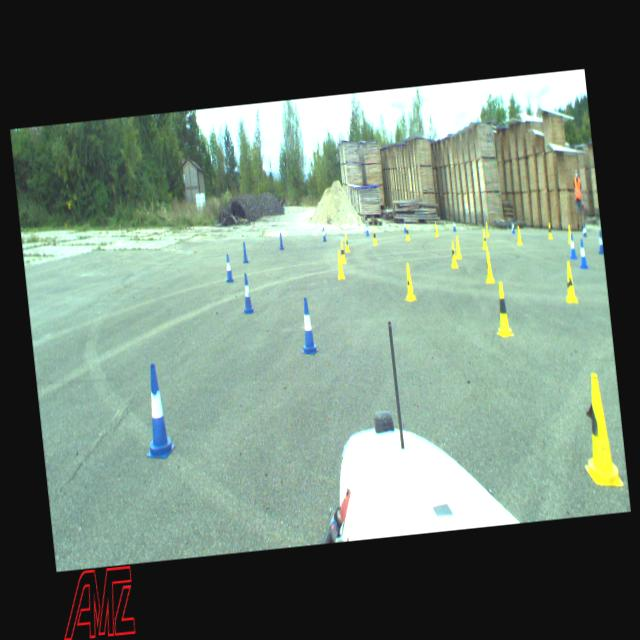blue_cone: (138, 362, 176, 459), (296, 297, 318, 355), (239, 272, 255, 314), (577, 238, 588, 269), (224, 254, 233, 283), (568, 232, 576, 258), (596, 230, 604, 253), (241, 242, 248, 263), (278, 232, 284, 249), (510, 220, 516, 233), (322, 226, 326, 242), (452, 218, 456, 232), (582, 222, 586, 236), (402, 219, 406, 232), (364, 222, 368, 235)
yellow_cone: (575, 372, 623, 489), (492, 282, 514, 336), (562, 260, 578, 302), (401, 262, 417, 302), (483, 250, 494, 282), (335, 250, 345, 279), (449, 242, 458, 268), (454, 235, 462, 258), (339, 240, 346, 264), (515, 225, 522, 245), (343, 234, 349, 252), (481, 230, 487, 248), (371, 228, 377, 245), (566, 225, 572, 242), (546, 222, 552, 238), (484, 221, 490, 237), (405, 226, 409, 240), (434, 222, 438, 236)
